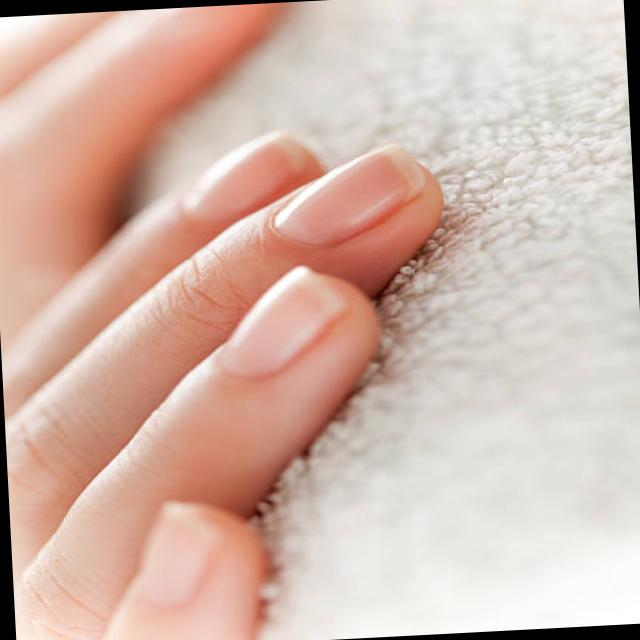Nail: (275, 144, 425, 244), (217, 268, 344, 377), (182, 132, 320, 221), (132, 500, 225, 607)
